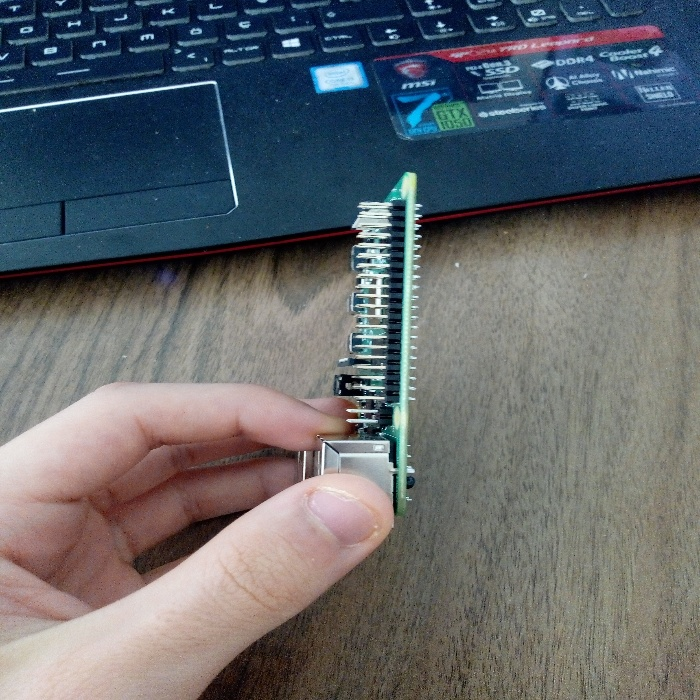raspberry: (302, 163, 436, 492)
